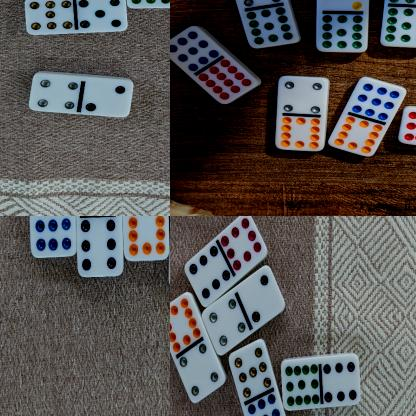pip-10: (328, 117, 382, 158), (122, 216, 169, 262), (273, 116, 325, 152), (170, 293, 200, 354)
pip-11: (244, 8, 299, 49), (281, 357, 319, 412), (316, 13, 368, 53), (378, 7, 416, 49), (125, 0, 170, 9)
pip-12: (198, 61, 259, 105), (397, 107, 416, 145)
pip-2: (238, 267, 284, 323), (81, 79, 132, 119)
pip-3: (316, 0, 369, 13)
pip-4: (178, 343, 223, 405), (201, 300, 245, 355), (28, 73, 81, 115), (277, 76, 328, 116)
pip-5: (75, 0, 127, 34)
pip-6: (76, 216, 123, 278), (184, 247, 230, 308), (321, 354, 360, 408)
pip-7: (228, 340, 270, 400), (23, 0, 75, 37)
pip-8: (219, 216, 266, 272)
pip-9: (351, 77, 405, 120), (170, 25, 218, 72), (28, 216, 74, 258), (247, 396, 287, 416)
